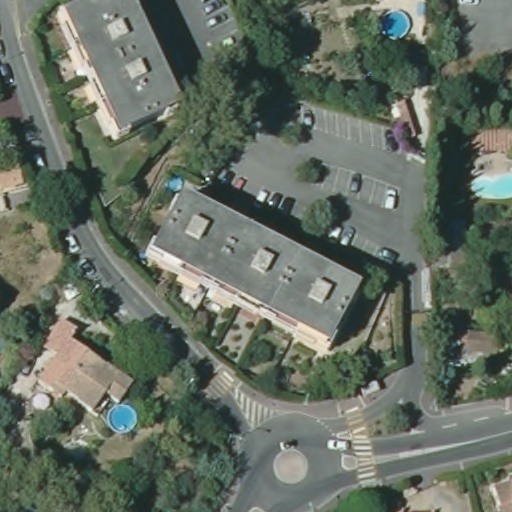pool: (468, 169, 512, 198), (107, 402, 138, 433), (379, 9, 411, 39), (166, 172, 186, 195)
